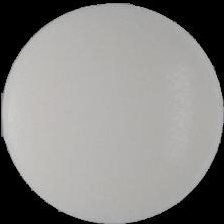51525-5901: (0, 0, 224, 224)
